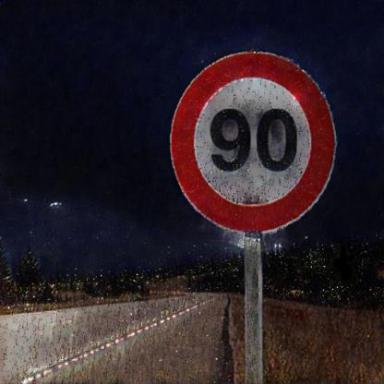Speed_limit_90: (170, 54, 334, 231)
